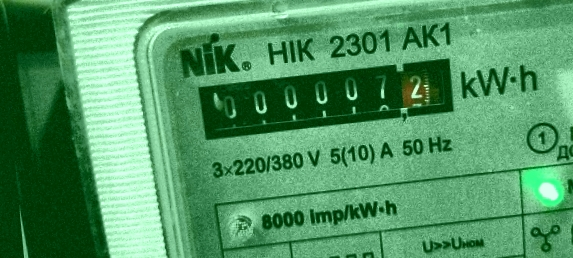0: (279, 82, 300, 111), (250, 87, 269, 117), (219, 92, 239, 120), (341, 73, 359, 103), (311, 77, 329, 106)
2: (406, 71, 425, 102)
7: (371, 72, 390, 102)
screen: (188, 49, 467, 146)
